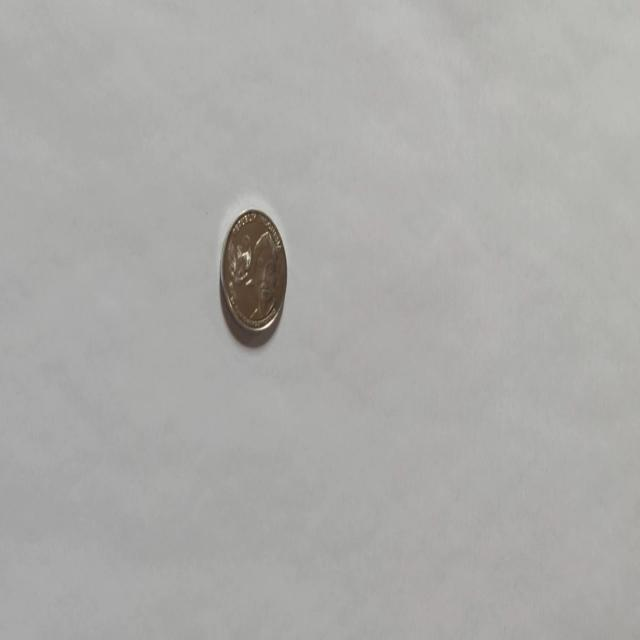dua ratus rupiah: (218, 206, 288, 338)
